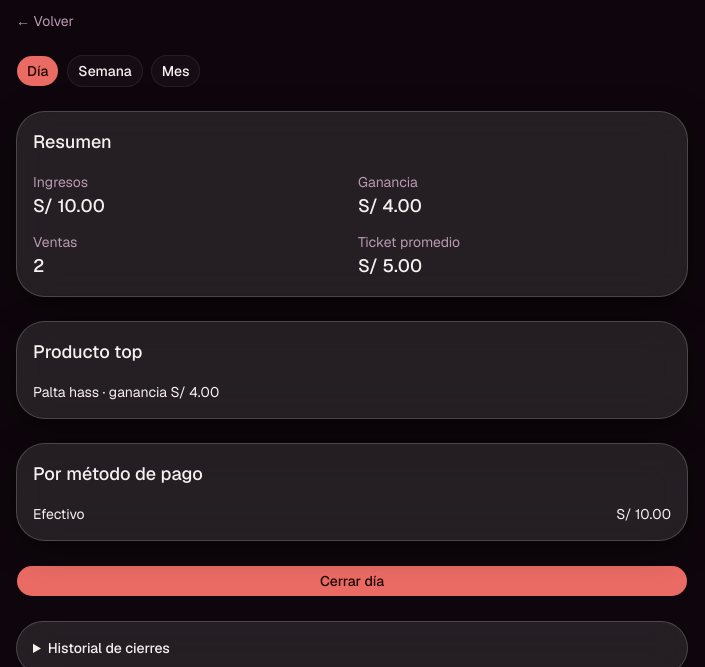
Test: KpisPage › shows a destructive toast when the day was already closed by someone else
Click the button "Cerrar día" at {"x": 352, "y": 581}, box x1=16 y1=565 x2=688 y2=597
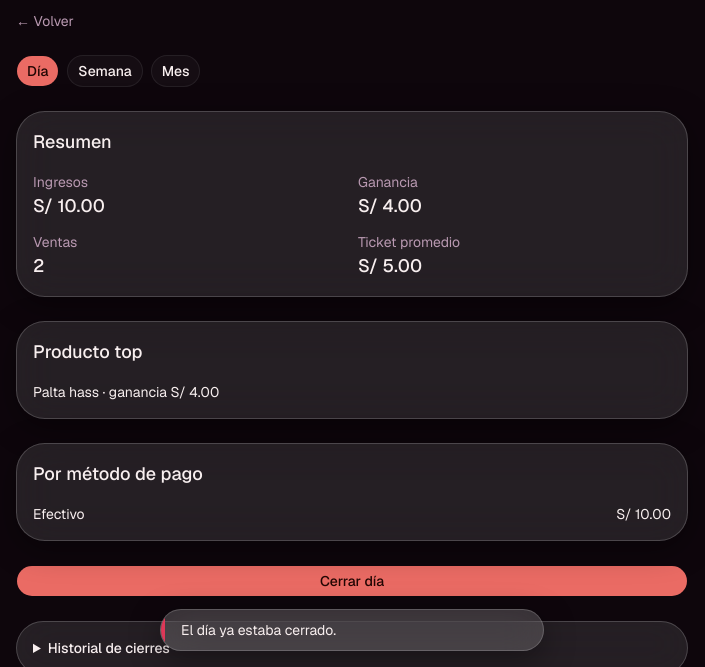
expect the text "El día ya estaba cerrado." is shown: met, box x1=160 y1=609 x2=544 y2=651
